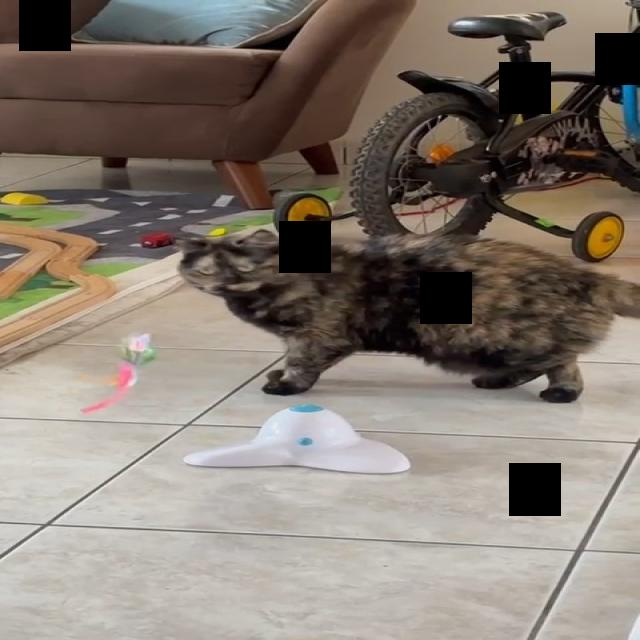authorized: (172, 227, 639, 403)
